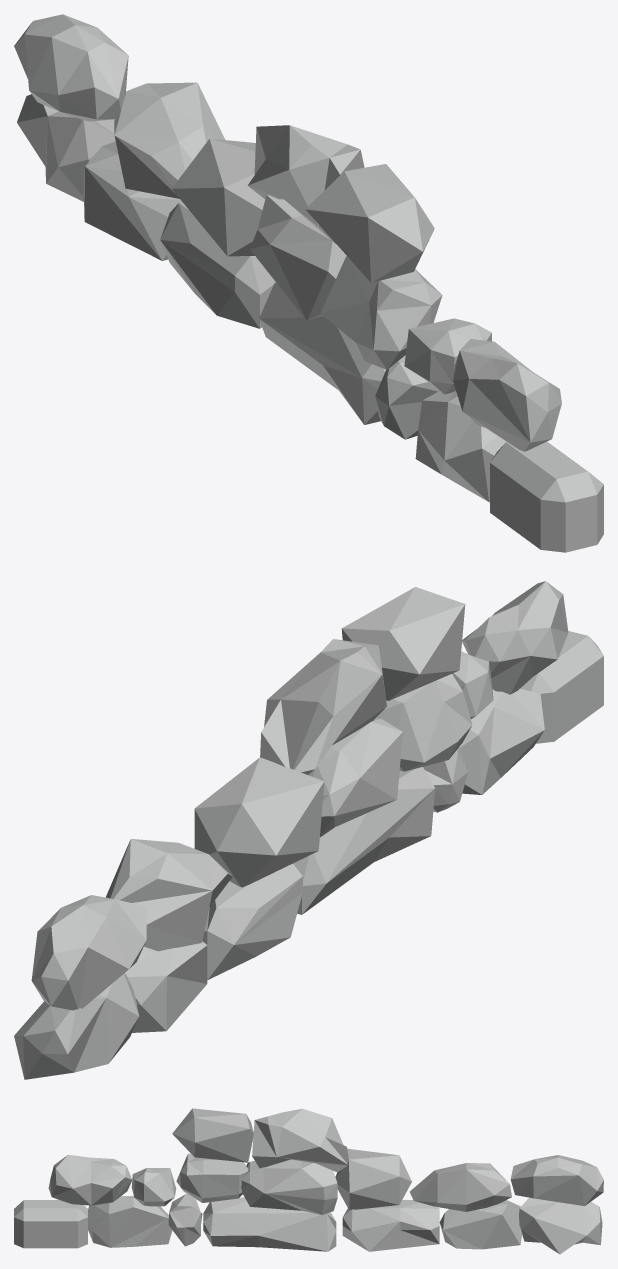
The model's file is aStoneFence1.obj.
The picture shows the model from 3 angles, top to bottom: view 1: azimuth 30°, elevation 25°; view 2: azimuth 150°, elevation 25°; view 3: azimuth 270°, elevation 25°; orthographic projection. The views are drawn at different scales.
Parts seen in each view (by area): view 1: Fense_5_stone_Mesh.038; view 2: Fense_5_stone_Mesh.038; view 3: Fense_5_stone_Mesh.038.
Part boxes in pixels (bbox=[...]): Fense_5_stone_Mesh.038: bbox=[14, 14, 603, 552]; Fense_5_stone_Mesh.038: bbox=[14, 581, 603, 1079]; Fense_5_stone_Mesh.038: bbox=[14, 1108, 603, 1254].
Bounding box in the file's own units: 0.3515 × 0.7143 × 3.
